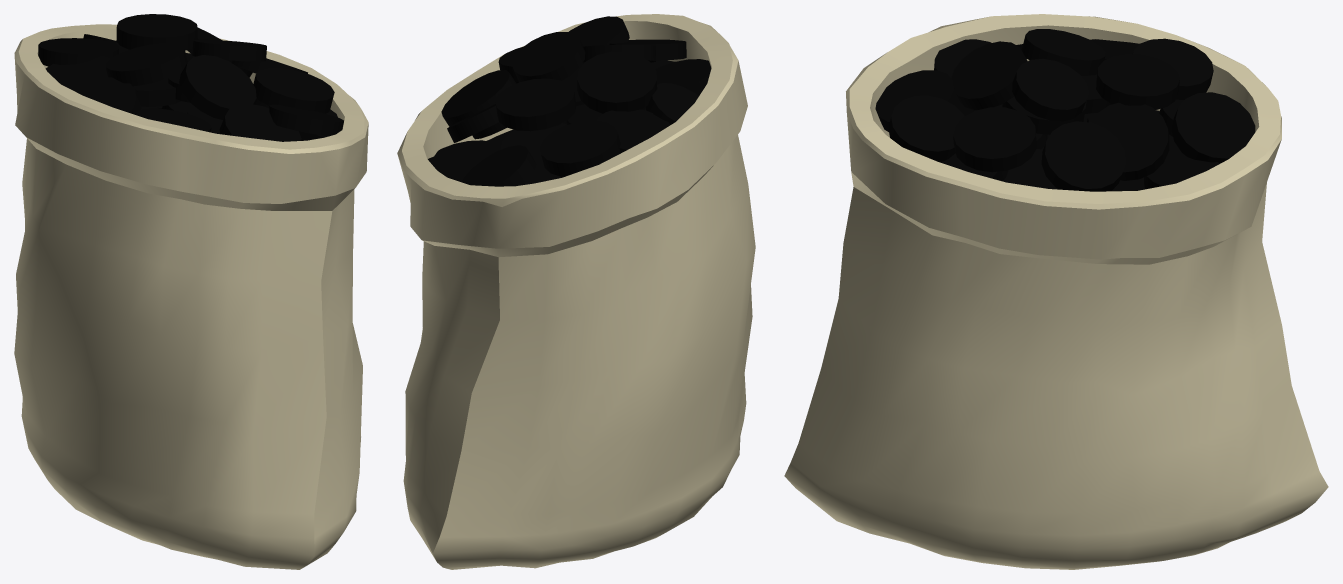
Rendered from treasure_bag.fbx.
3 renders of one model, left to right at view 1: azimuth 30°, elevation 25°; view 2: azimuth 150°, elevation 25°; view 3: azimuth 270°, elevation 25°, orthographic. The views are drawn at different scales.
Visible parts, largest first — view 1: treasure_bag, treasure_bag_coins; view 2: treasure_bag, treasure_bag_coins; view 3: treasure_bag, treasure_bag_coins.
Boxes of the visible parts, x1=… form: treasure_bag: x1=14, y1=24, x2=368, y2=569; treasure_bag_coins: x1=38, y1=14, x2=343, y2=141; treasure_bag: x1=397, y1=14, x2=755, y2=569; treasure_bag_coins: x1=428, y1=16, x2=711, y2=186; treasure_bag: x1=784, y1=14, x2=1328, y2=569; treasure_bag_coins: x1=875, y1=29, x2=1255, y2=191.
Size of the model in its own units: 26.4 by 40.26 by 42.9.
